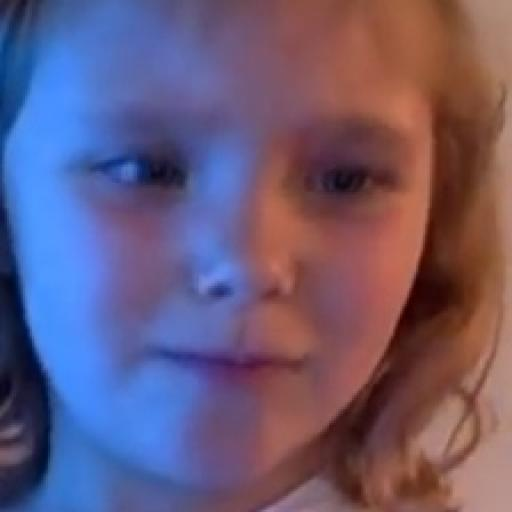Autism: (0, 0, 415, 512)
